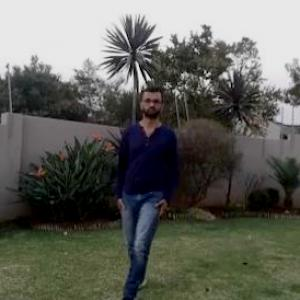follow: (114, 91, 171, 283)
